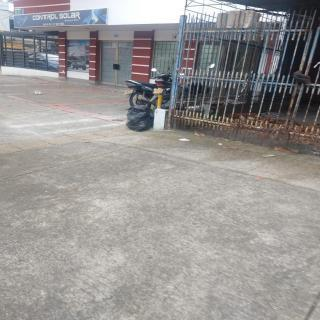Garbage: (125, 103, 154, 133)
